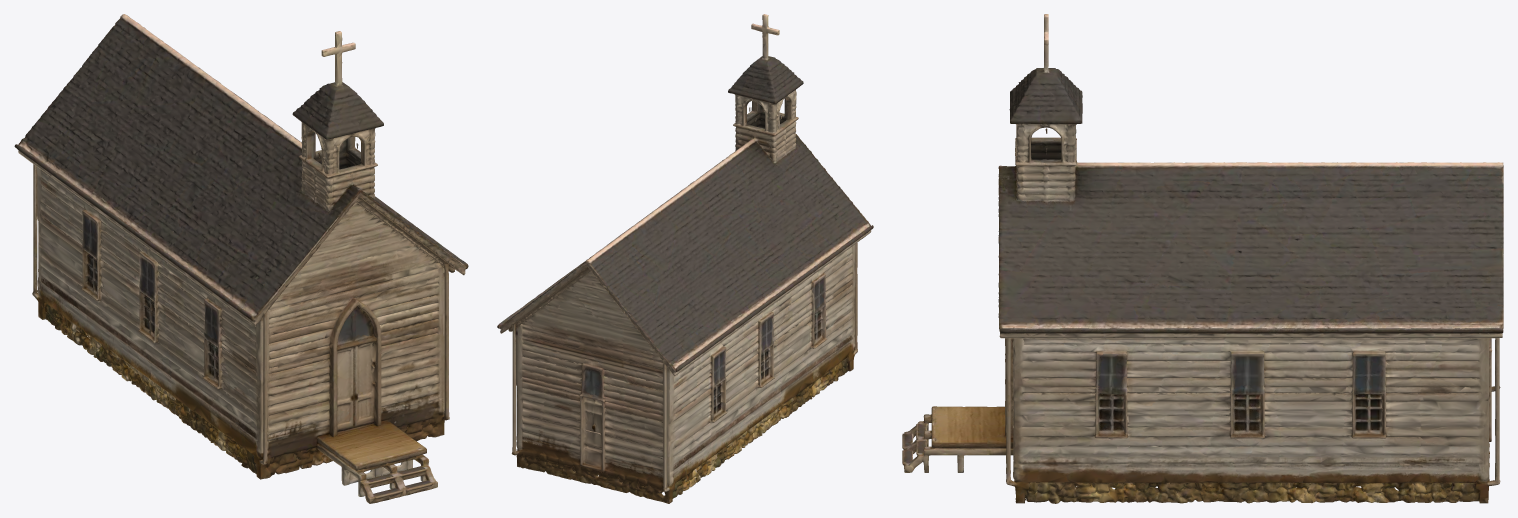
Rendered from chapel.glb.
The picture shows the model from 3 angles, left to right: view 1: azimuth 30°, elevation 25°; view 2: azimuth 150°, elevation 25°; view 3: azimuth 270°, elevation 25°; orthographic projection. The views are drawn at different scales.
Bounding box in the file's own units: 0.8482 × 1.54 × 1.9.
1 material, 1 textured.
